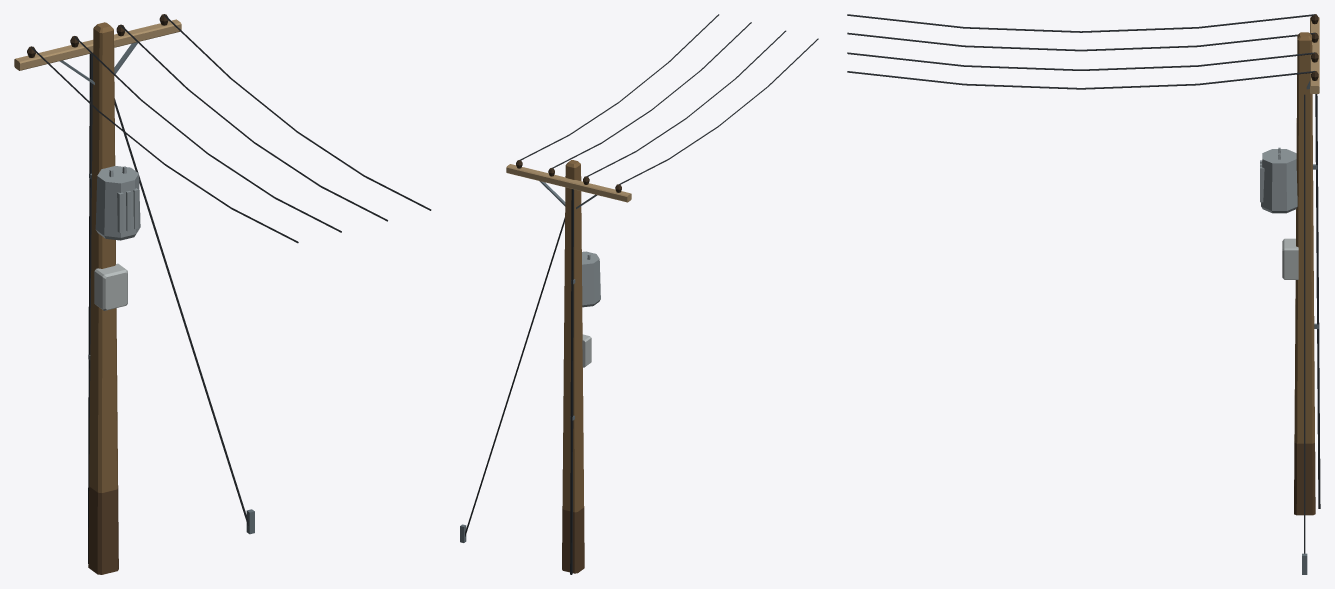
Rendered from timber-utility-pole-a93693.glb.
The picture shows the model from 3 angles, left to right: view 1: azimuth 30°, elevation 25°; view 2: azimuth 150°, elevation 25°; view 3: azimuth 270°, elevation 25°; orthographic projection. The views are drawn at different scales.
Visible parts, largest first — view 1: timber-utility-pole-body; view 2: timber-utility-pole-body; view 3: timber-utility-pole-body.
Boxes of the visible parts, <box> form: timber-utility-pole-body: <box>14,14,431,574</box>; timber-utility-pole-body: <box>460,14,818,574</box>; timber-utility-pole-body: <box>847,14,1320,574</box>.
Size of the model in its own units: 4 by 9 by 8.1.
